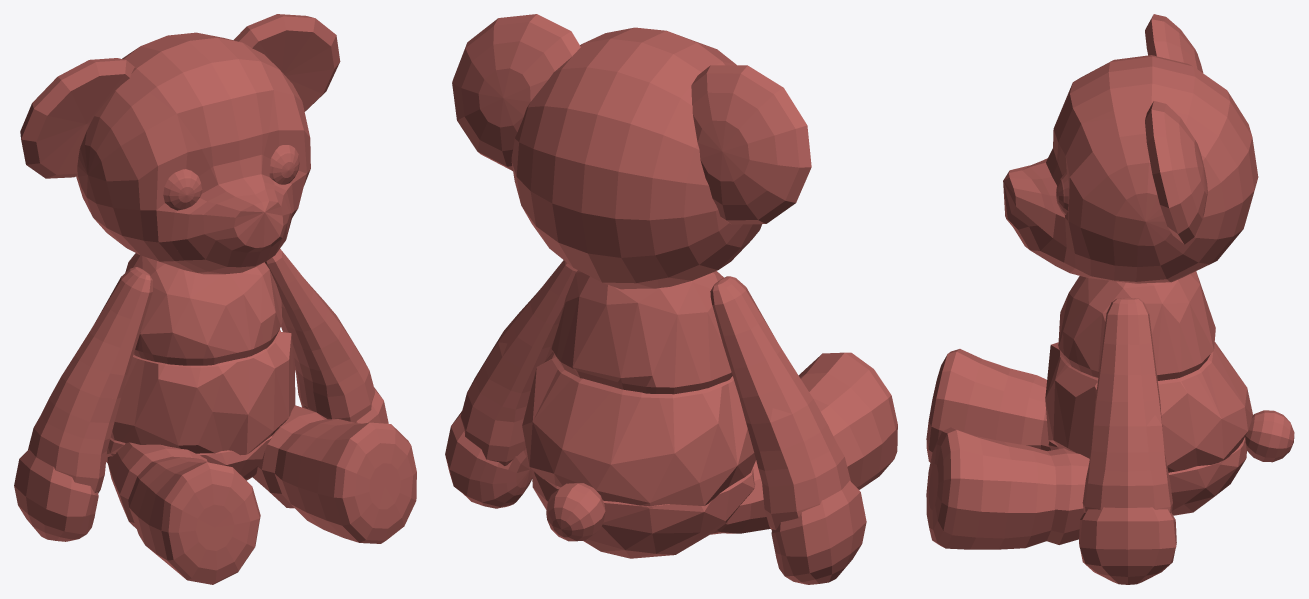
The model's file is KogumaCollision.fbx.
The picture shows the model from 3 angles, left to right: view 1: azimuth 30°, elevation 25°; view 2: azimuth 150°, elevation 25°; view 3: azimuth 270°, elevation 25°; orthographic projection. The views are drawn at different scales.
Visible parts, largest first — view 1: so_Head, so_Abdomen, so_Chest, so_RightFoot, so_LeftFoot, cd_MouthClose, cd_RightEar, so_RightLowerArm, so_RightUpperArm, cd_LeftEar, so_LeftLowerArm, so_RightHand (+9 smaller); view 2: so_Head, so_Abdomen, so_Chest, cd_RightEar, cd_LeftEar, so_RightLowerArm, so_RightUpperArm, so_Waist, so_RightHand, so_LeftLowerArm, so_RightLowerLeg, so_LeftHand (+4 smaller); view 3: so_Head, so_Abdomen, so_Chest, so_LeftLowerLeg, so_LeftUpperArm, so_LeftLowerArm, so_LeftHand, cd_LeftEar, so_LeftFoot, so_RightLowerLeg, cd_MouthClose, so_RightFoot (+4 smaller).
Boxes of the visible parts, x1=… form: so_Head: x1=76, y1=32, x2=310, y2=274; so_Abdomen: x1=110, y1=329, x2=295, y2=455; so_Chest: x1=125, y1=253, x2=282, y2=365; so_RightFoot: x1=149, y1=462, x2=260, y2=584; so_LeftFoot: x1=317, y1=422, x2=416, y2=543; cd_MouthClose: x1=171, y1=174, x2=293, y2=273; cd_RightEar: x1=20, y1=58, x2=134, y2=178; so_RightLowerArm: x1=28, y1=376, x2=120, y2=492; so_RightUpperArm: x1=61, y1=267, x2=152, y2=398; cd_LeftEar: x1=233, y1=14, x2=340, y2=111; so_LeftLowerArm: x1=282, y1=318, x2=375, y2=422; so_RightHand: x1=14, y1=449, x2=98, y2=541; so_Head: x1=511, y1=27, x2=761, y2=289; so_Abdomen: x1=522, y1=352, x2=755, y2=506; so_Chest: x1=551, y1=270, x2=732, y2=394; cd_RightEar: x1=691, y1=65, x2=811, y2=224; cd_LeftEar: x1=452, y1=14, x2=580, y2=170; so_RightLowerArm: x1=746, y1=399, x2=850, y2=530; so_RightUpperArm: x1=710, y1=276, x2=813, y2=423; so_Waist: x1=532, y1=468, x2=755, y2=558; so_RightHand: x1=771, y1=480, x2=866, y2=584; so_LeftLowerArm: x1=460, y1=332, x2=535, y2=465; so_RightLowerLeg: x1=800, y1=373, x2=882, y2=489; so_LeftHand: x1=445, y1=411, x2=532, y2=508; so_Head: x1=1046, y1=55, x2=1258, y2=283; so_Abdomen: x1=1045, y1=342, x2=1252, y2=472; so_Chest: x1=1058, y1=271, x2=1215, y2=380; so_LeftLowerLeg: x1=970, y1=436, x2=1056, y2=549; so_LeftUpperArm: x1=1093, y1=297, x2=1161, y2=426; so_LeftLowerArm: x1=1082, y1=415, x2=1172, y2=512; so_LeftHand: x1=1079, y1=507, x2=1176, y2=584; cd_LeftEar: x1=1145, y1=101, x2=1207, y2=244; so_LeftFoot: x1=926, y1=427, x2=983, y2=549; so_RightLowerLeg: x1=964, y1=359, x2=1046, y2=449; cd_MouthClose: x1=1003, y1=158, x2=1066, y2=265; so_RightFoot: x1=926, y1=349, x2=982, y2=462.
Size of the model in its own units: 7.62 by 9.49 by 7.01.
